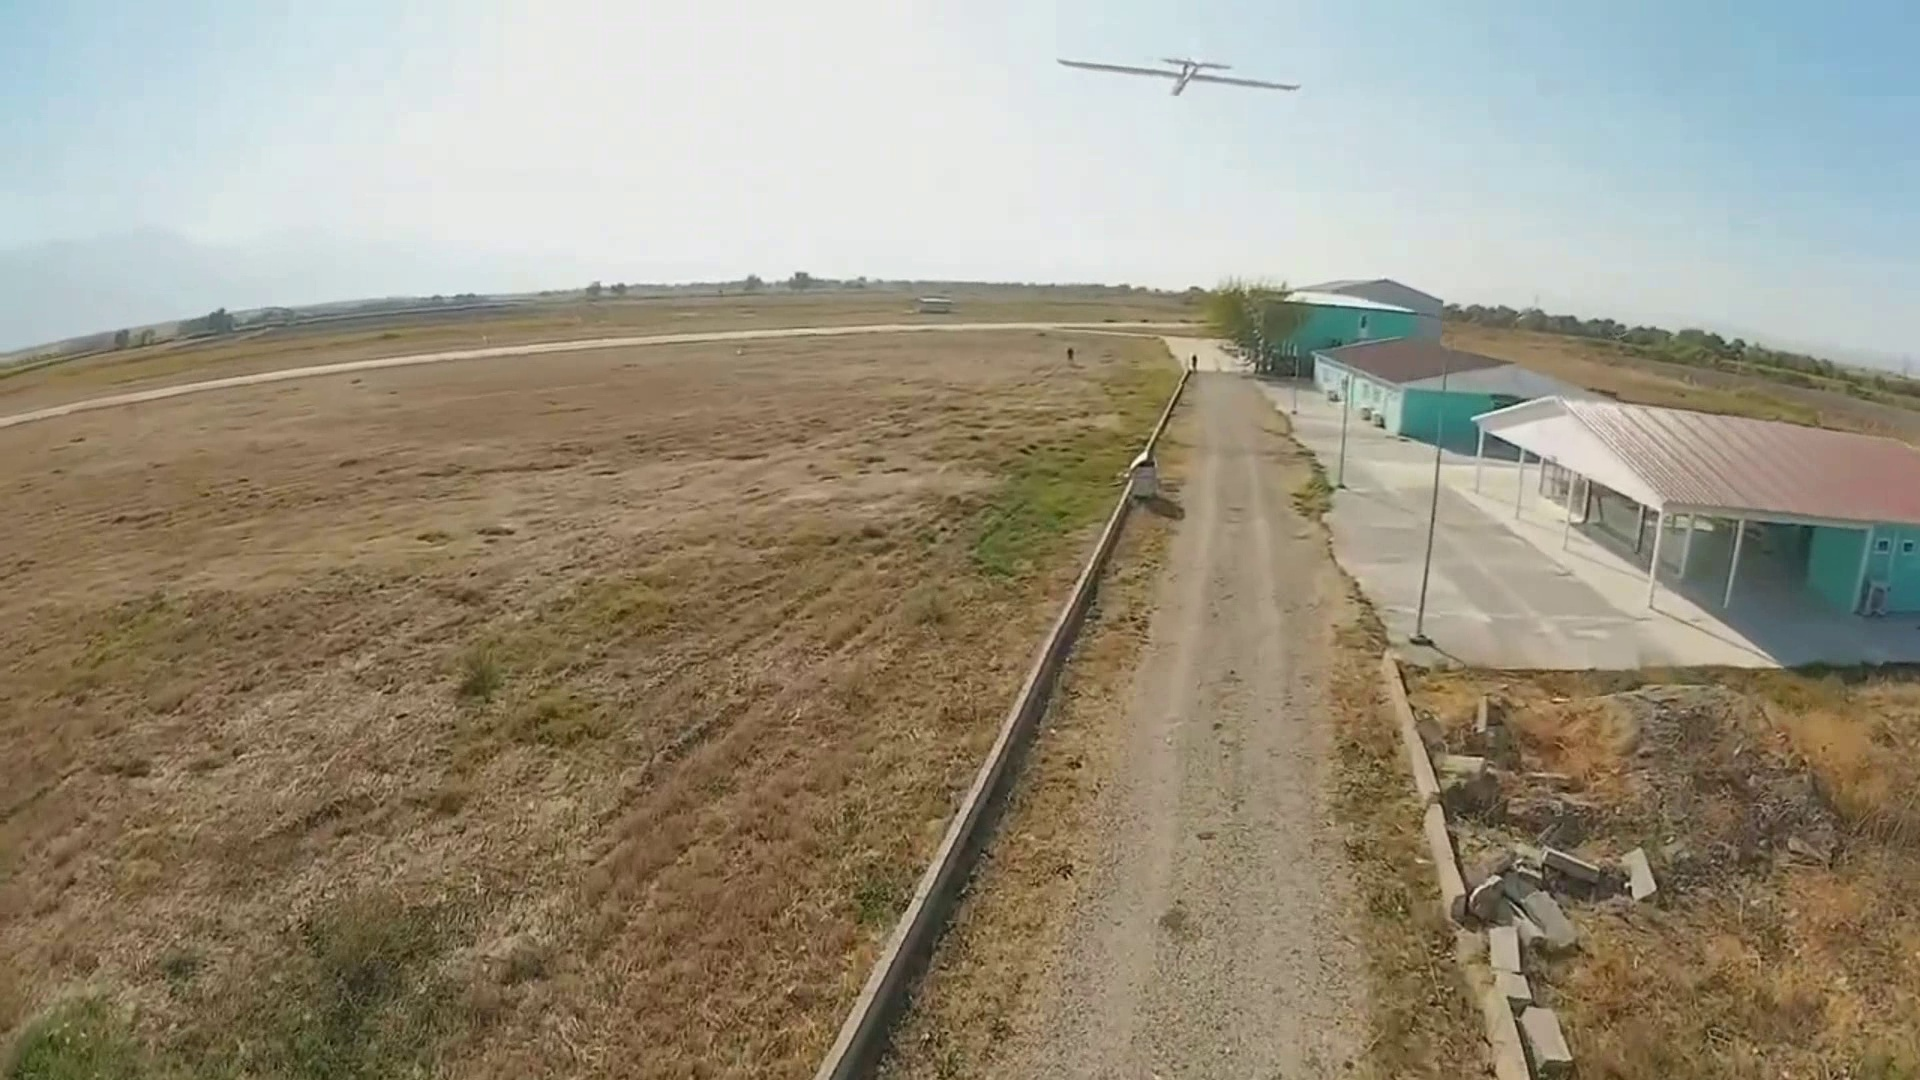airplane: (1056, 51, 1302, 100)
